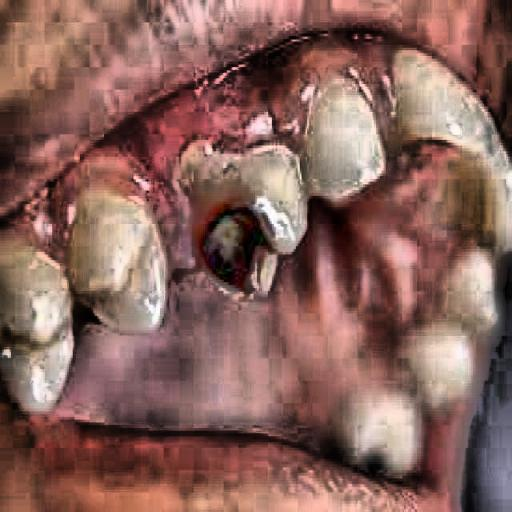Caries: (169, 146, 310, 306)
